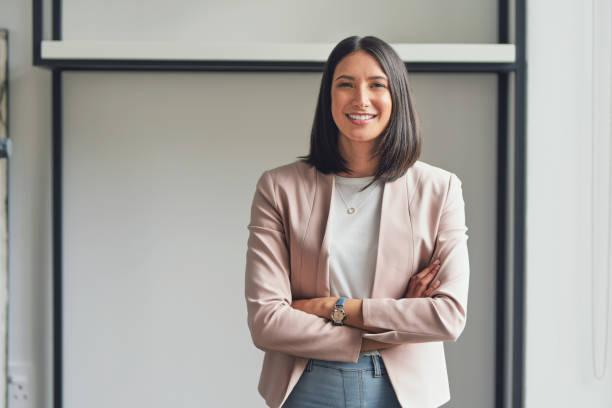no_goggle: (323, 74, 402, 98)
no_helmet: (309, 25, 419, 86)
no_vest: (239, 153, 479, 408)
